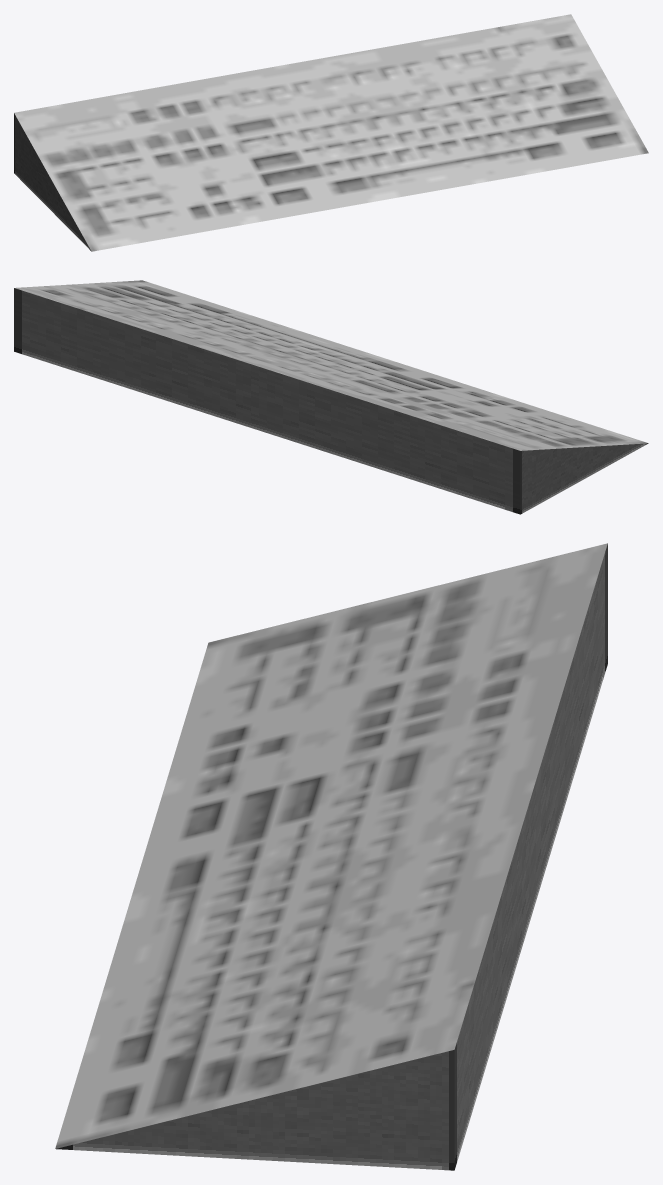
Rendered from primary_010.glb.
3 views of the same model, one above another, from view 1: azimuth 30°, elevation 25°; view 2: azimuth 150°, elevation 25°; view 3: azimuth 270°, elevation 25° (orthographic). The views are drawn at different scales.
Visible parts, largest first — view 1: Object; view 2: Object; view 3: Object.
Boxes of the visible parts, left/top/right/bottom form: Object: left=14, top=14, right=648, bottom=251; Object: left=14, top=280, right=648, bottom=514; Object: left=55, top=543, right=607, bottom=1170.
Size of the model in its own units: 0.6141 by 0.0656 by 0.2717.
4 materials, 4 textured.
